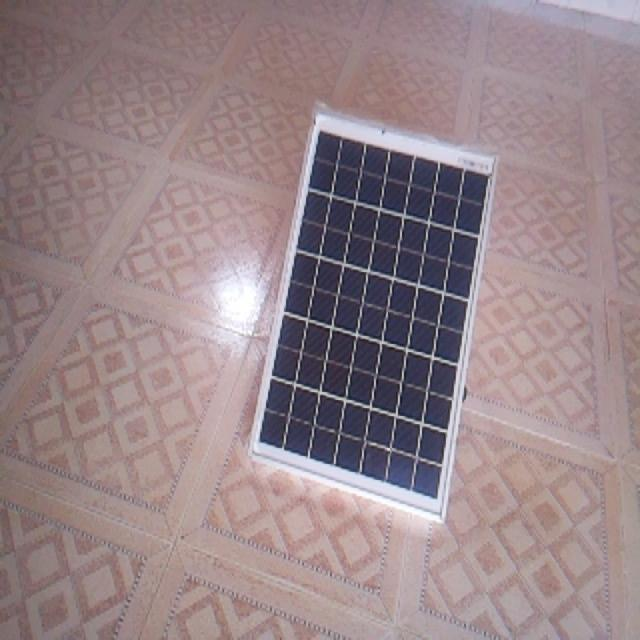Normal Solar Panel: (251, 109, 497, 519)
